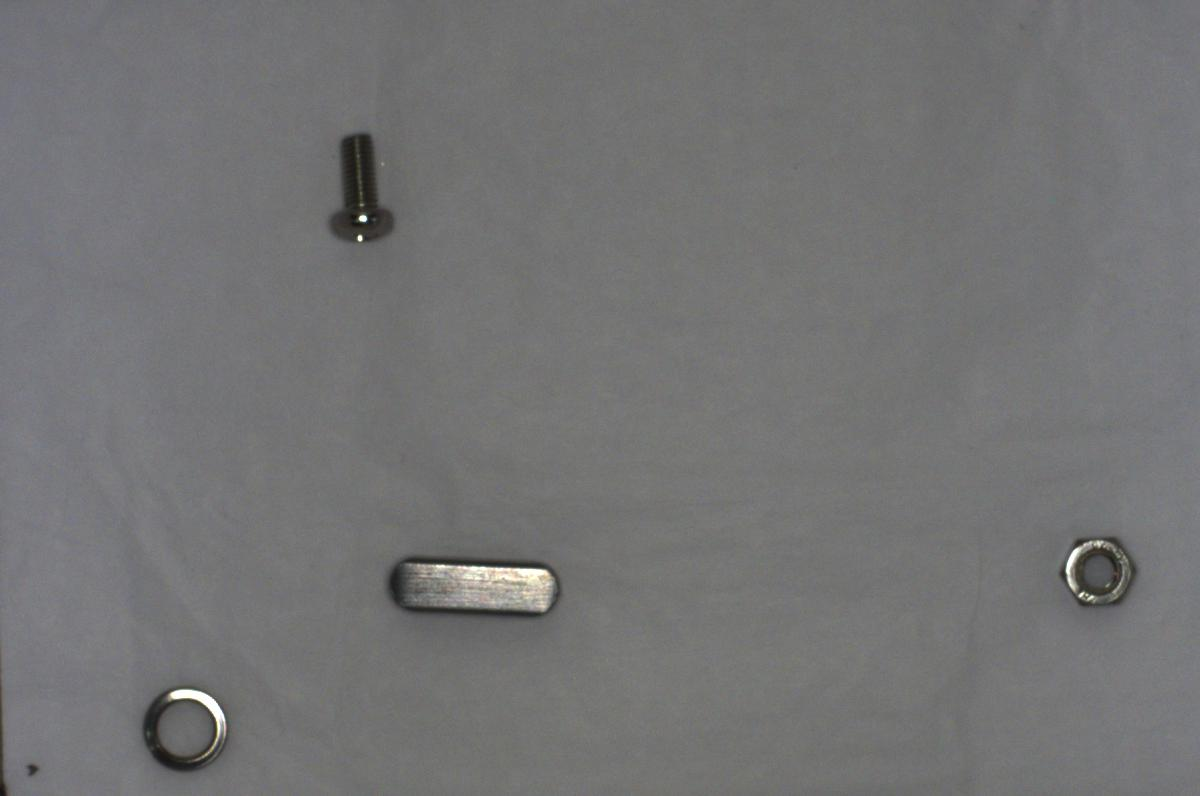Hexagon nut: (1053, 529, 1141, 612)
Keybar: (377, 539, 573, 630)
Round head screw: (319, 123, 402, 253)
Spring washer: (132, 673, 235, 776)
